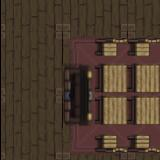Hide: (61, 64, 94, 128)
Obstacle: (127, 128, 160, 160), (127, 96, 160, 128), (94, 96, 127, 128), (127, 65, 160, 96), (94, 65, 126, 96), (94, 128, 126, 159), (127, 34, 160, 64), (94, 34, 127, 64)
